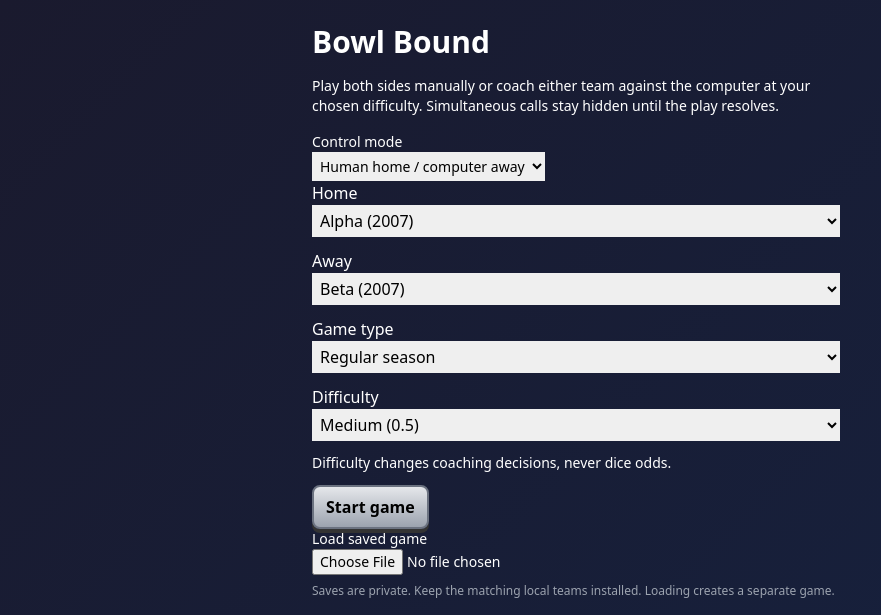
Scenario: keeps a failed toss decision on its screen with retry and game management available
Check: the button with test id "start-game" is shown, box x1=312 y1=485 x2=429 y2=529
Select "Human home / computer away" in the dropdown labelled "Control mode": (428, 166) x1=312 y1=152 x2=545 y2=181
Click the button with test id "start-game": (370, 507) x1=312 y1=485 x2=429 y2=529
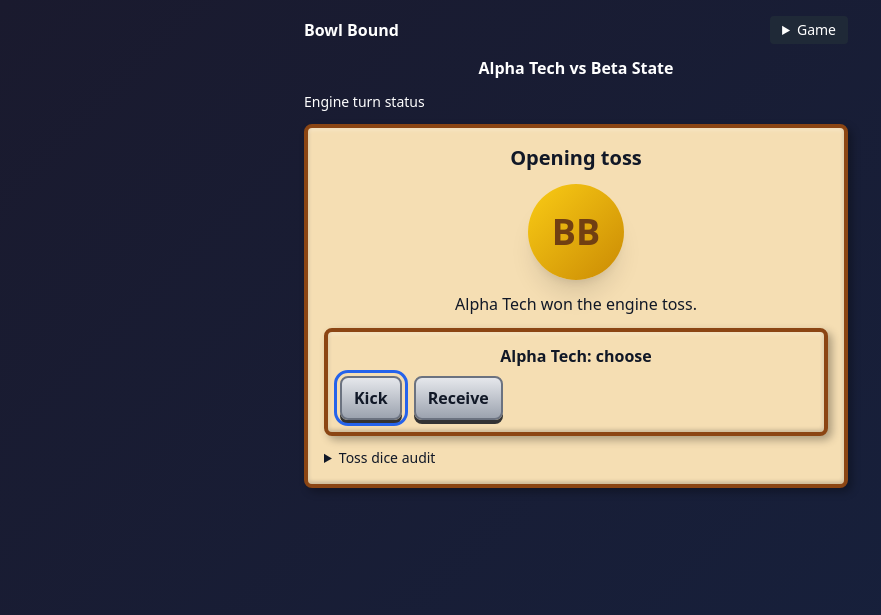
Check: the element with test id "opening-screen" is shown, box x1=288 y1=0 x2=864 y2=504
Click the button "Receive": (458, 398) x1=414 y1=376 x2=503 y2=420
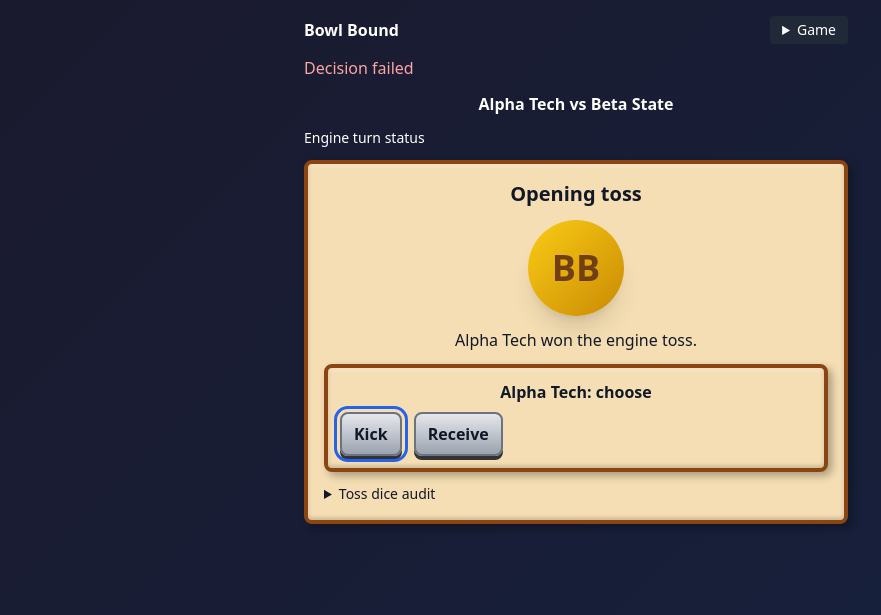
Check: the element with test id "opening-screen" is shown, box x1=288 y1=0 x2=864 y2=540
Check: the button "Receive" is enabled, box x1=414 y1=412 x2=503 y2=456
Check: the message "Decision failed" is shown, box x1=304 y1=57 x2=414 y2=79
Click the heading "Game": (809, 30) x1=770 y1=16 x2=848 y2=44
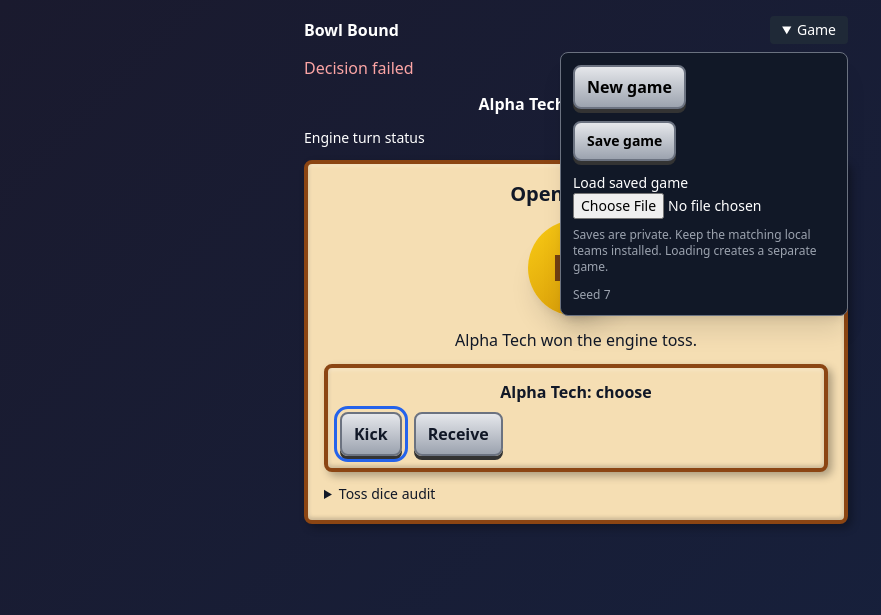
Check: the button "Save game" is enabled, box x1=573 y1=121 x2=676 y2=161
Click the button with test id "new-drive": (630, 87) x1=573 y1=65 x2=686 y2=109
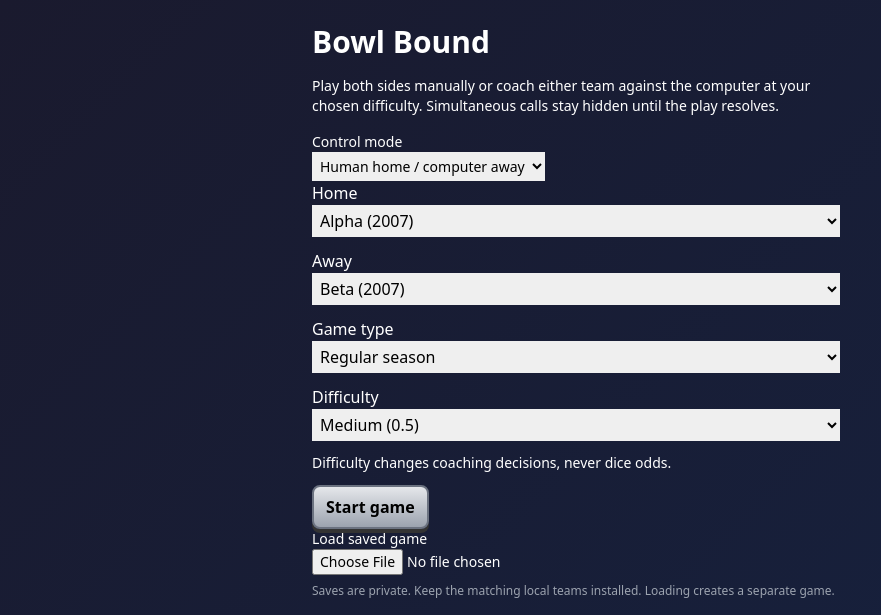
Check: the button with test id "start-game" is shown, box x1=312 y1=485 x2=429 y2=529
